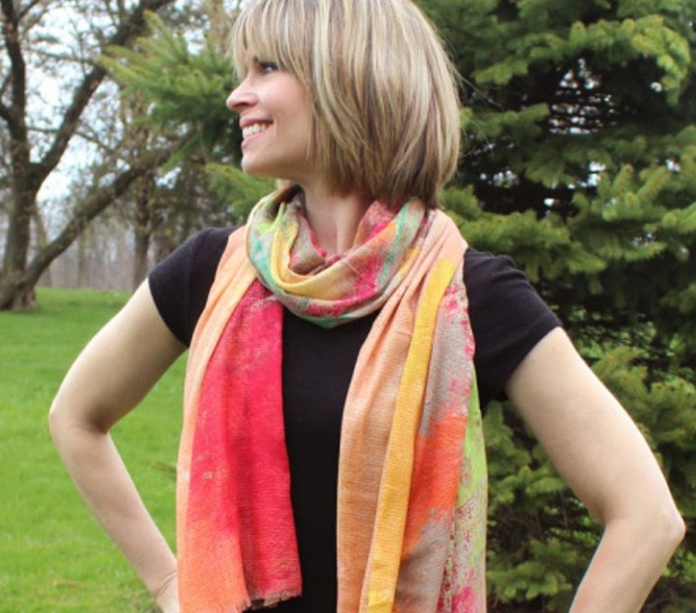mouth: (238, 116, 273, 145)
nose: (225, 92, 257, 111)
